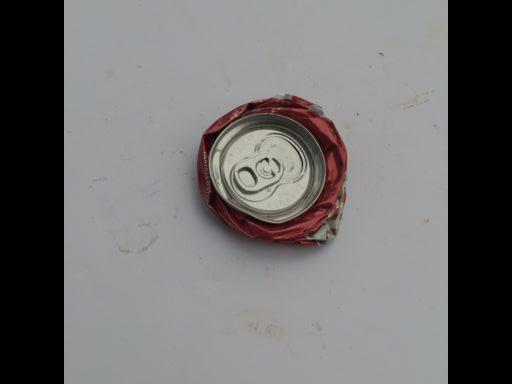metal: (197, 95, 349, 246)
